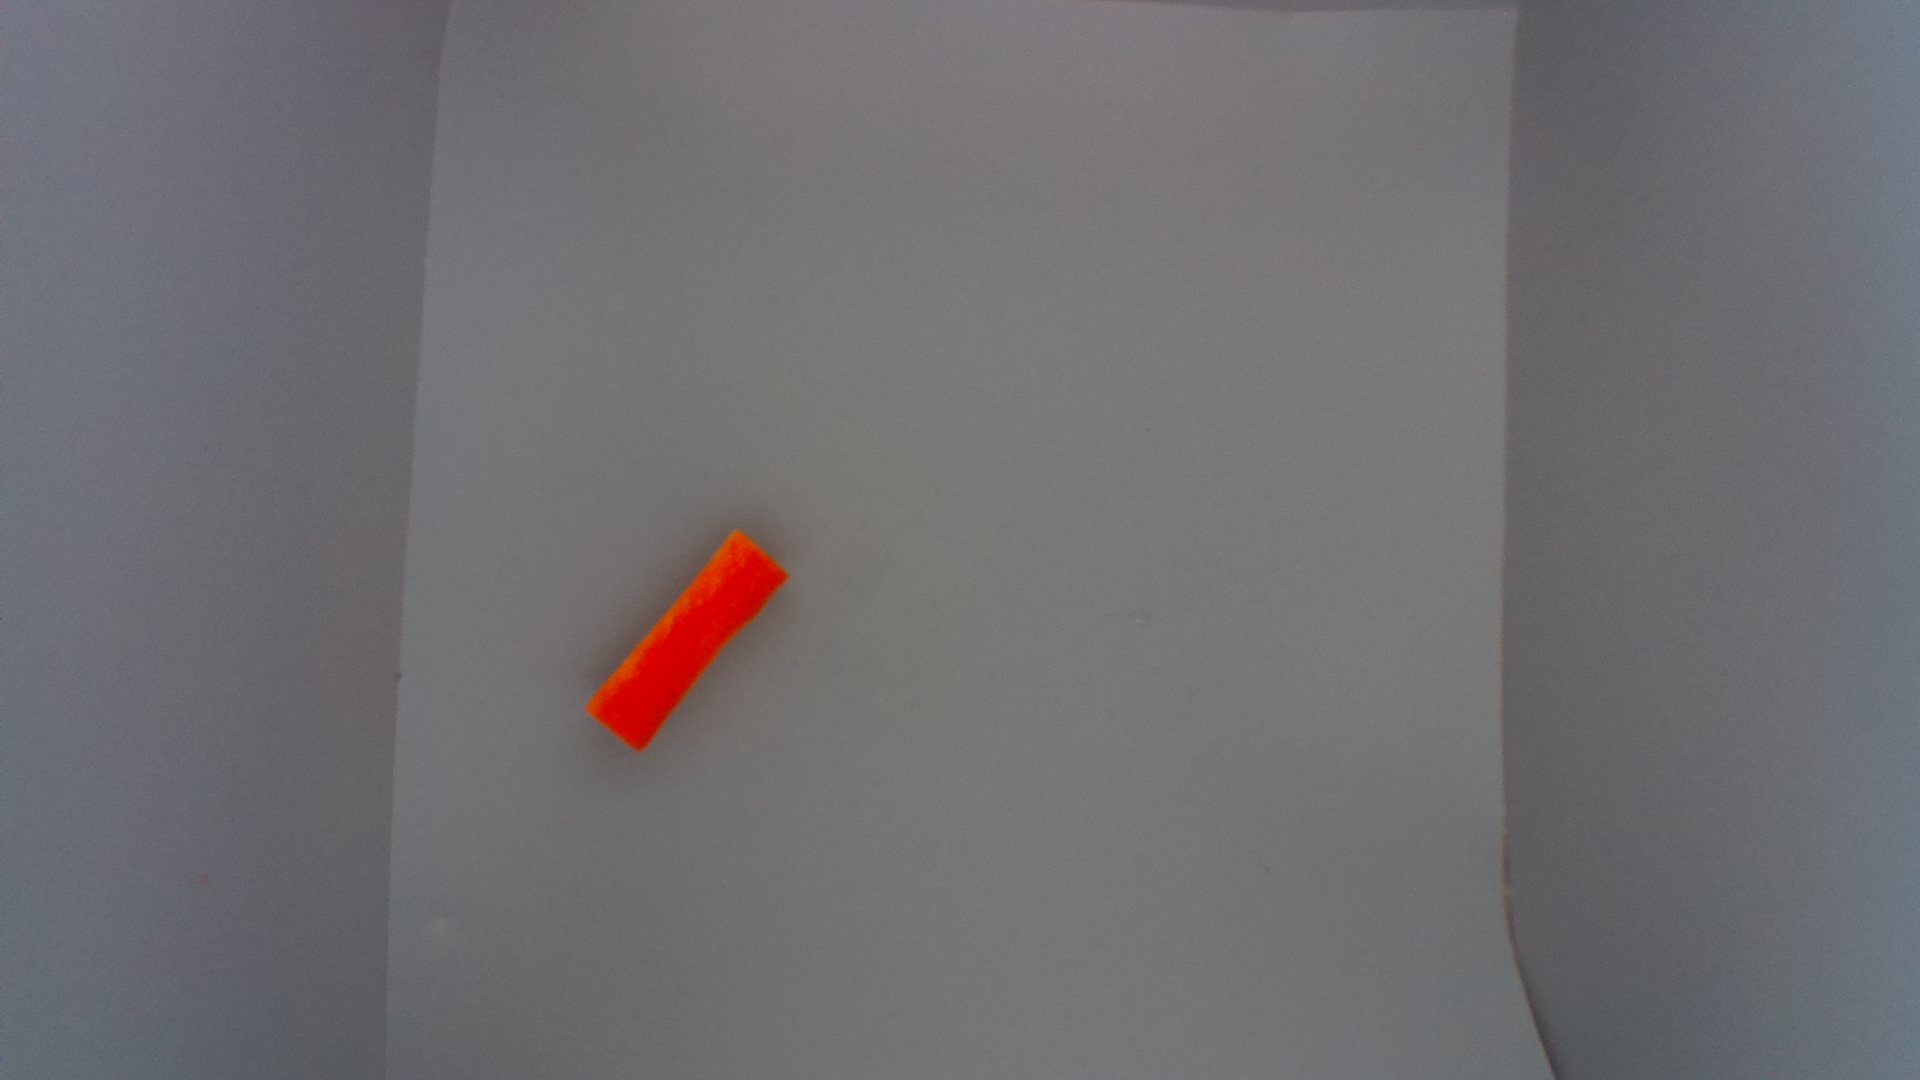carrot: (582, 527, 791, 761)
